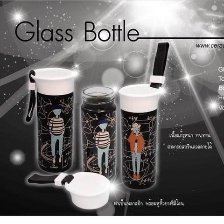bottle: (26, 63, 78, 181), (119, 81, 167, 193), (77, 79, 119, 182)
